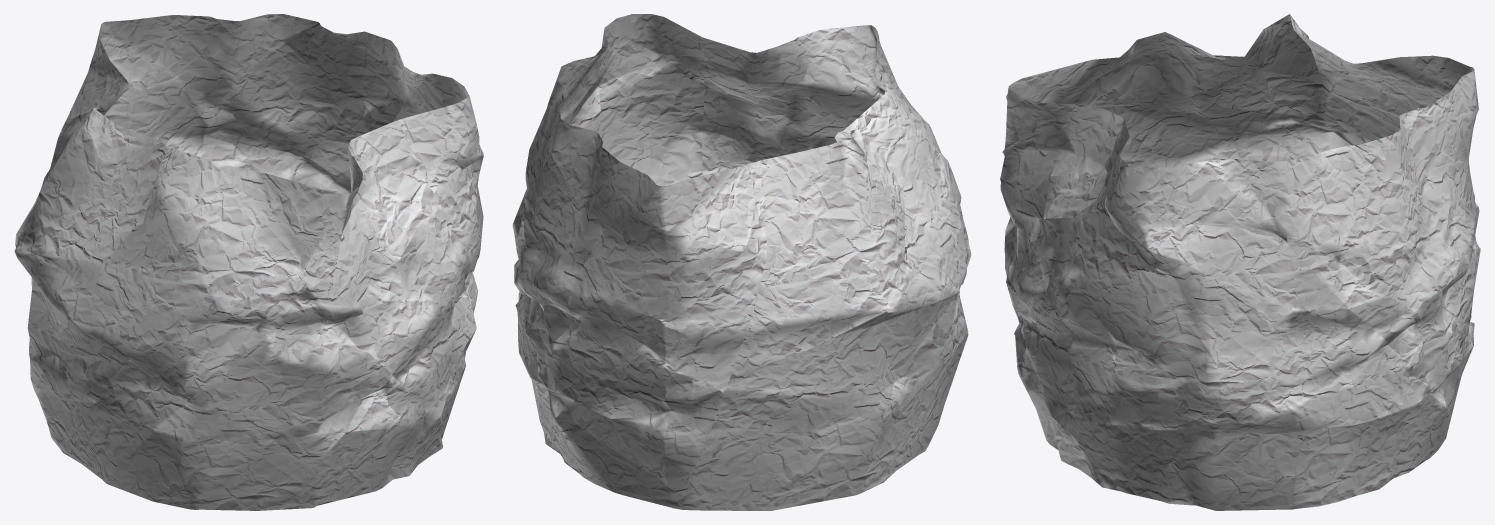
File: PaperWall_03.fbx
3 views of the same model, side by side, from view 1: azimuth 30°, elevation 25°; view 2: azimuth 150°, elevation 25°; view 3: azimuth 270°, elevation 25° (orthographic). The views are drawn at different scales.
Parts seen in each view (by area): view 1: pCylinder2; view 2: pCylinder2; view 3: pCylinder2.
Part boxes in pixels (x1,y1,x2,y2): pCylinder2: (14, 14, 483, 510); pCylinder2: (512, 14, 971, 510); pCylinder2: (1000, 14, 1480, 510).
Bounding box in the file's own units: 83.65 × 66.54 × 83.89.
Materials: 1 (1 with a texture image).
